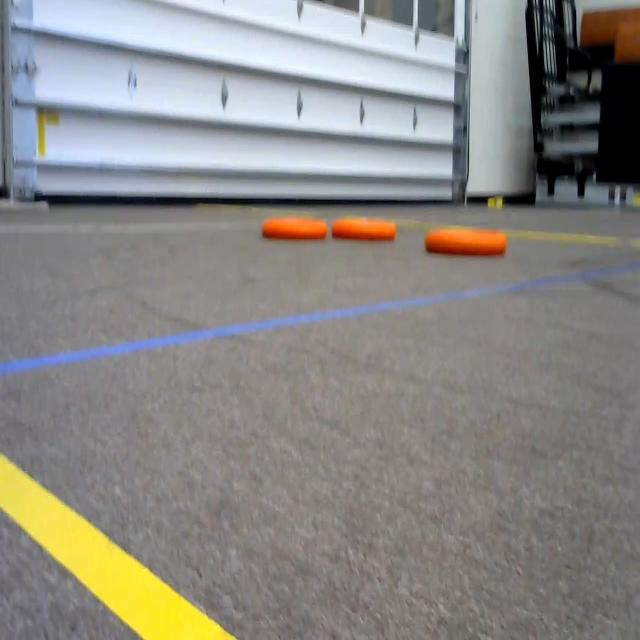note: (260, 195, 333, 248), (423, 219, 518, 254), (333, 214, 406, 251)
